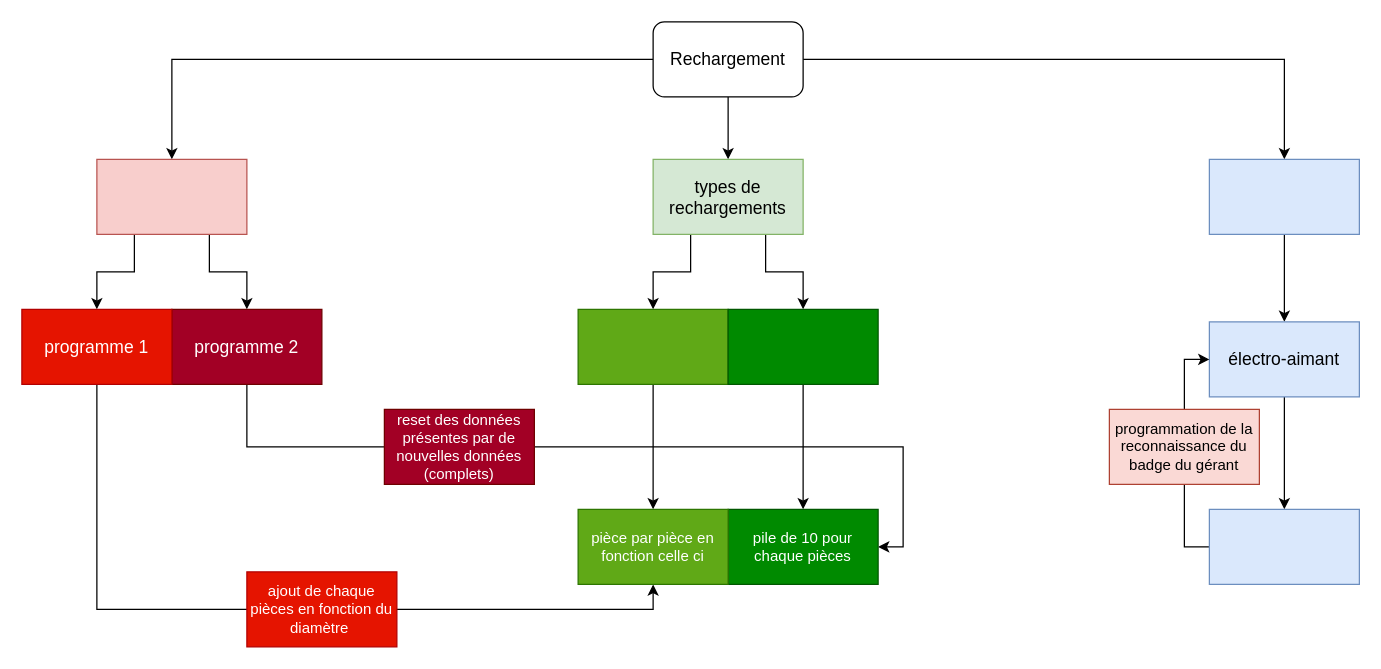
Image size: 1381x669. Some labels were removed from this diagram. The centre of each missing label's shape, as x and y in pixels:
"programmations" goes at pixel 171 196.
"rechargement a la main" goes at pixel 652 346.
"rechargement par pile de pièces" goes at pixel 802 346.
"RF-ID (simple badge)" goes at pixel 1283 546.
"sécurité" goes at pixel 1283 196.
